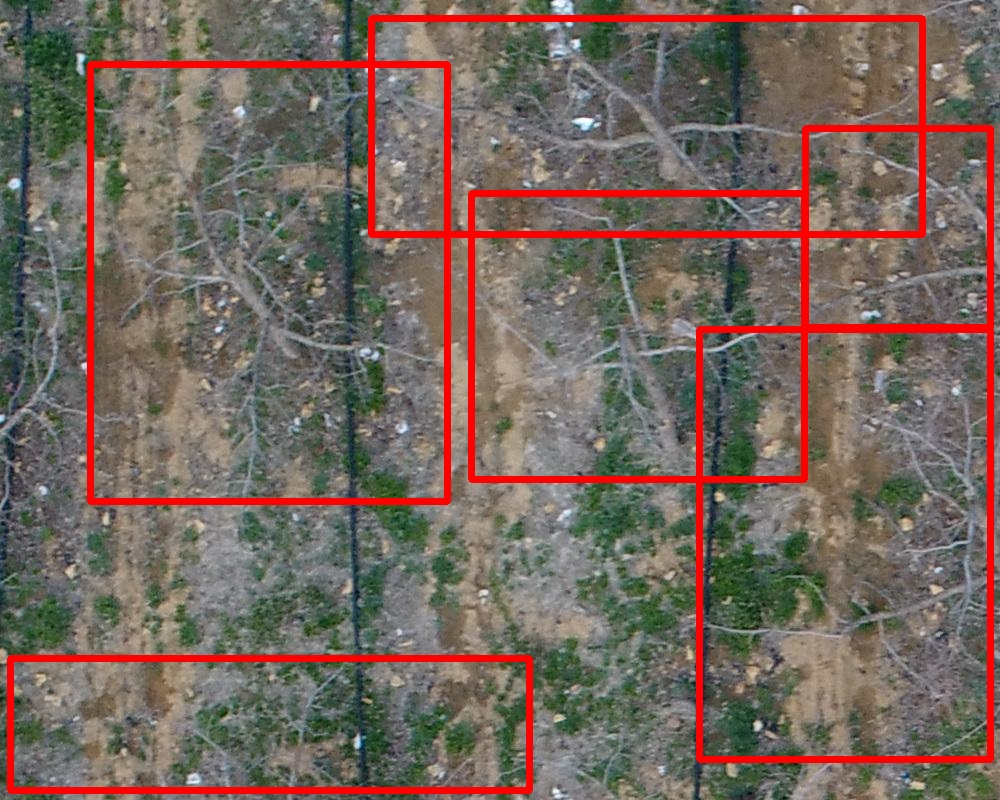apple: (90, 64, 447, 501), (699, 329, 990, 759), (371, 18, 922, 234), (471, 193, 804, 479), (10, 658, 529, 790), (805, 128, 990, 327)
